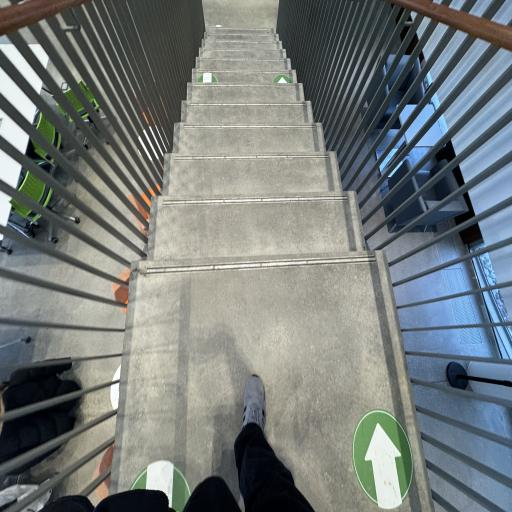Stairs: (111, 28, 433, 512)
